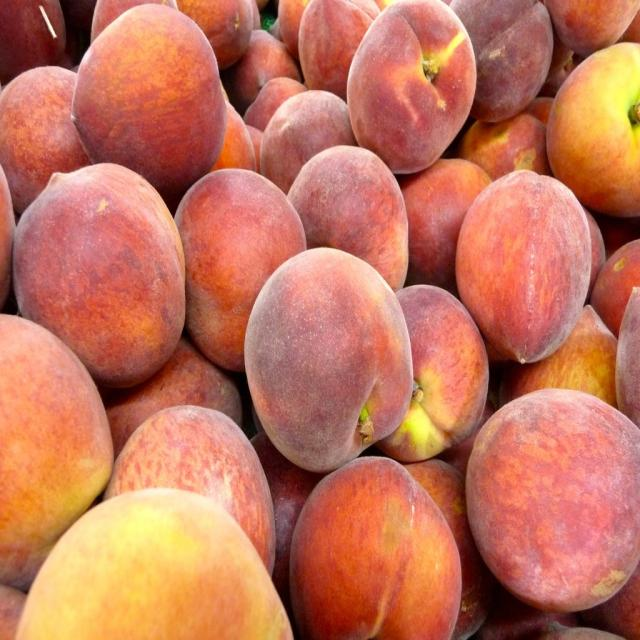Peach: (0, 1, 640, 640), (345, 7, 479, 170)
